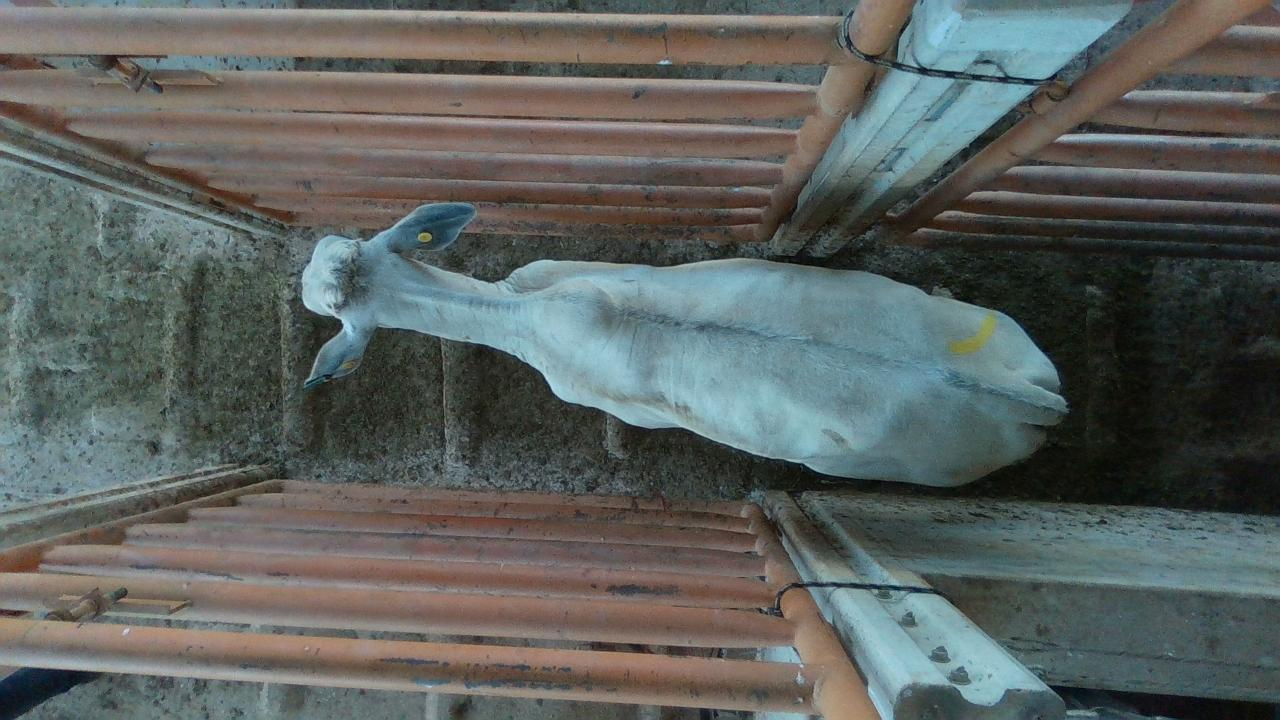cattle: (299, 199, 1070, 488)
